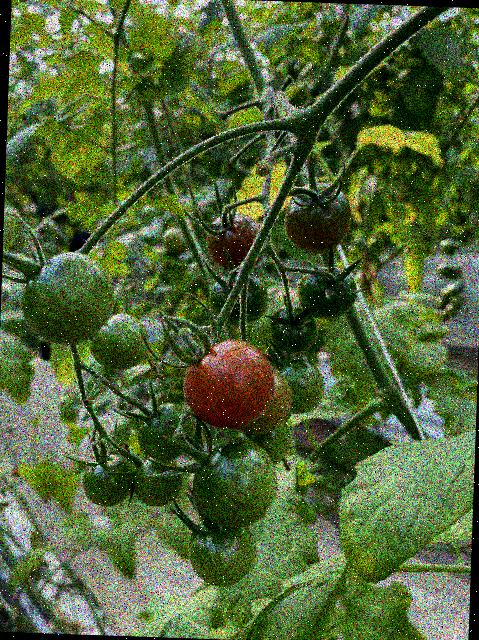l_fully_ripened: (181, 338, 277, 430), (205, 211, 267, 272)
l_green: (18, 250, 117, 346), (190, 436, 278, 530), (282, 180, 352, 255), (186, 521, 257, 588), (206, 269, 270, 328), (135, 402, 196, 461), (89, 311, 148, 371), (296, 264, 356, 321), (80, 451, 137, 509), (273, 358, 325, 414), (131, 455, 184, 508), (266, 302, 318, 354), (238, 420, 291, 467)
l_half_ripened: (231, 365, 293, 436)
